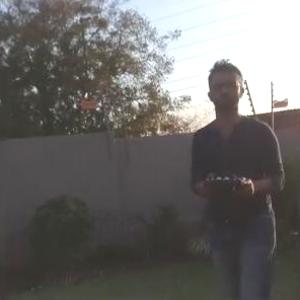follow: (189, 55, 291, 299)
